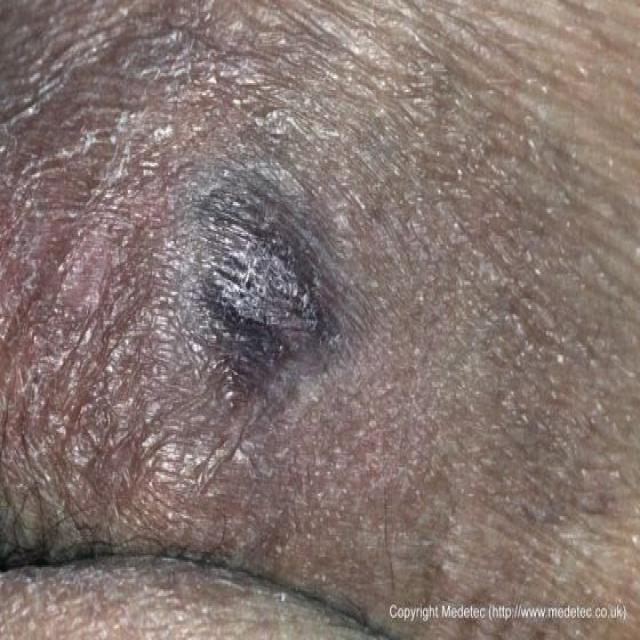DTI: (194, 163, 340, 396)
